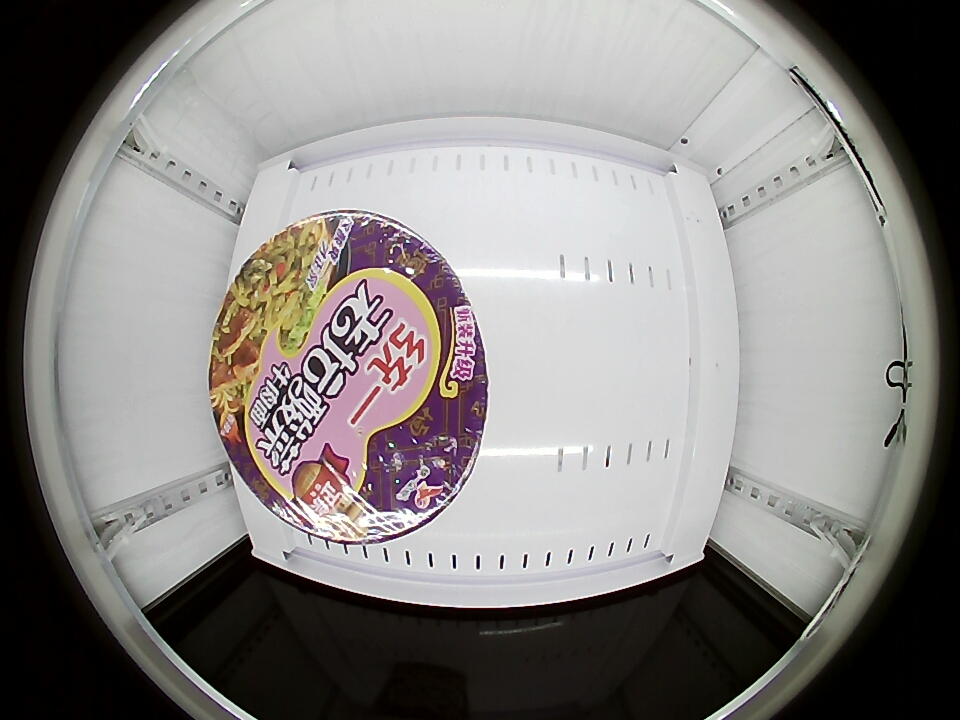laotansuancai: (210, 208, 491, 543)
